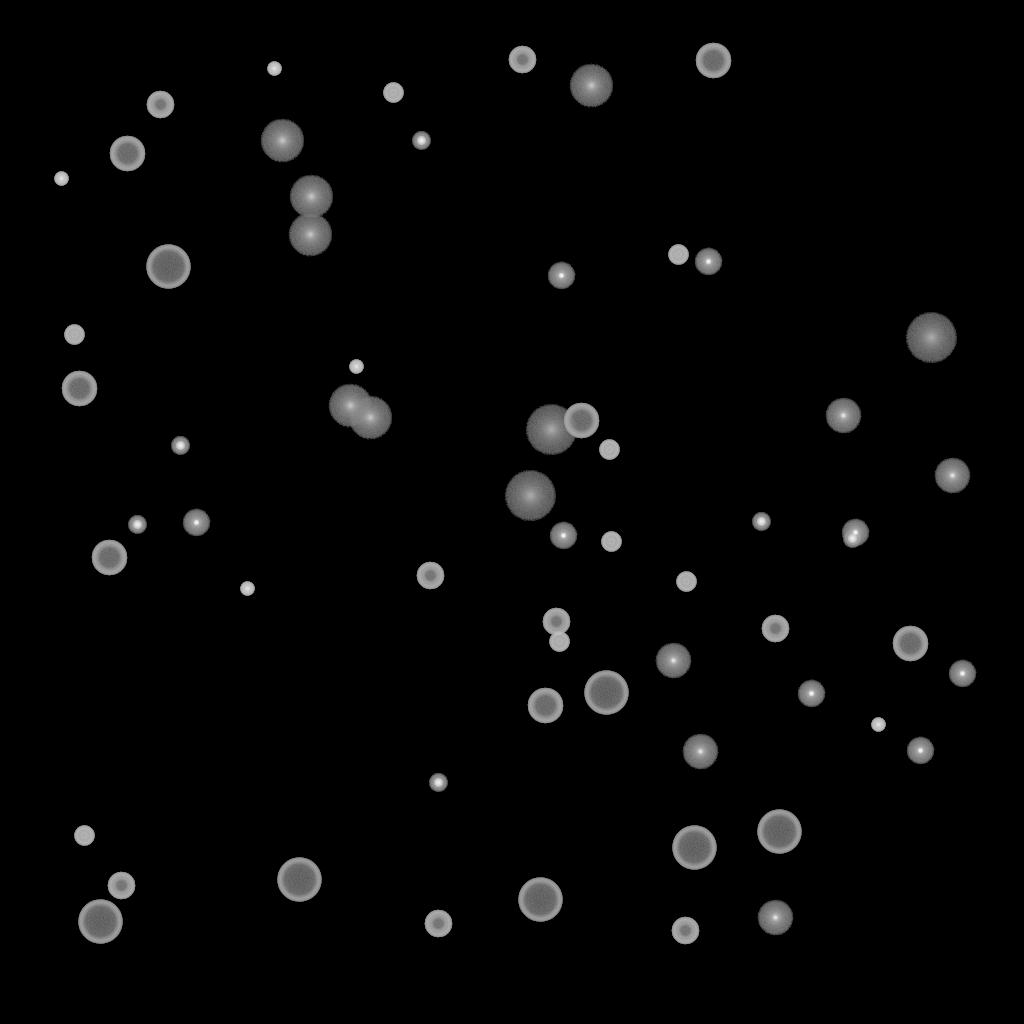depth:-10: (948, 660, 976, 688), (906, 737, 934, 765), (547, 262, 575, 290), (694, 248, 722, 276), (841, 519, 869, 547), (182, 509, 210, 537), (549, 522, 577, 550), (797, 680, 825, 708)
depth:-20: (128, 516, 146, 534), (752, 513, 770, 531), (171, 437, 189, 455), (412, 132, 430, 150), (843, 530, 861, 548), (429, 774, 447, 792)
depth:-30: (267, 62, 281, 76), (871, 718, 885, 732), (54, 172, 68, 186), (349, 360, 363, 374), (240, 582, 254, 596)
depth:-40: (383, 83, 403, 103), (668, 245, 688, 265), (676, 572, 696, 592), (549, 632, 569, 652), (74, 826, 94, 846), (599, 440, 619, 460), (601, 532, 621, 552), (64, 325, 84, 345)
depth:-50: (416, 562, 444, 590), (107, 872, 135, 900), (542, 608, 570, 636), (508, 46, 536, 74), (761, 615, 789, 643), (671, 917, 699, 945), (424, 910, 452, 938), (146, 91, 174, 119)
depth:-60: (61, 371, 97, 407), (563, 403, 599, 439), (109, 136, 145, 172), (527, 688, 563, 724), (695, 43, 731, 79), (91, 540, 127, 576), (892, 626, 928, 662)
depth:-70: (78, 900, 122, 944), (518, 878, 562, 922), (277, 858, 321, 902), (757, 810, 801, 854), (584, 671, 628, 715), (672, 826, 716, 870), (146, 245, 190, 289)
depth:0: (682, 734, 718, 770), (934, 458, 970, 494), (825, 398, 861, 434), (655, 643, 691, 679), (757, 900, 793, 936)
depth:10: (288, 213, 332, 257), (289, 175, 333, 219), (328, 384, 372, 428), (569, 64, 613, 108), (260, 119, 304, 163), (348, 396, 392, 440)
depth:20: (525, 405, 577, 455), (905, 313, 957, 363), (504, 471, 556, 521)
